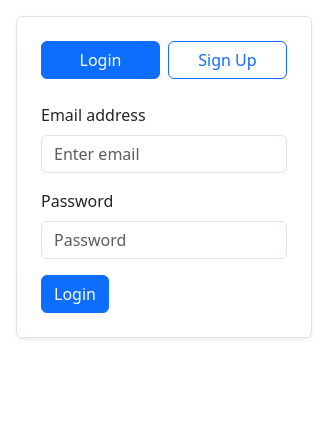
Test: AuthForm Component › switches to Sign Up form when Sign Up button is clicked
Click the button with aria-label "Switch to Sign Up Form": click(228, 60) [168,41,287,79]
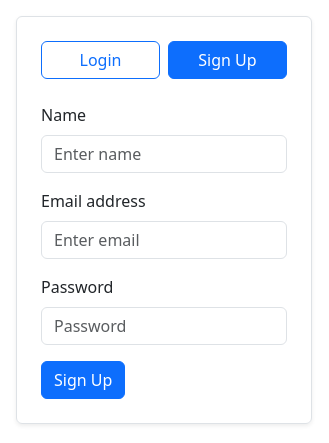
Check: the field with placeholder "Enter name" is shown, box [41,135,287,173]
